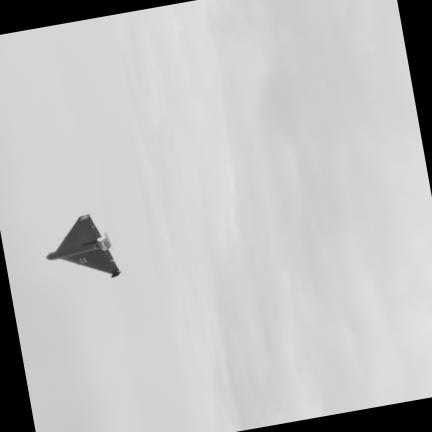Shahed: (47, 214, 120, 276)
